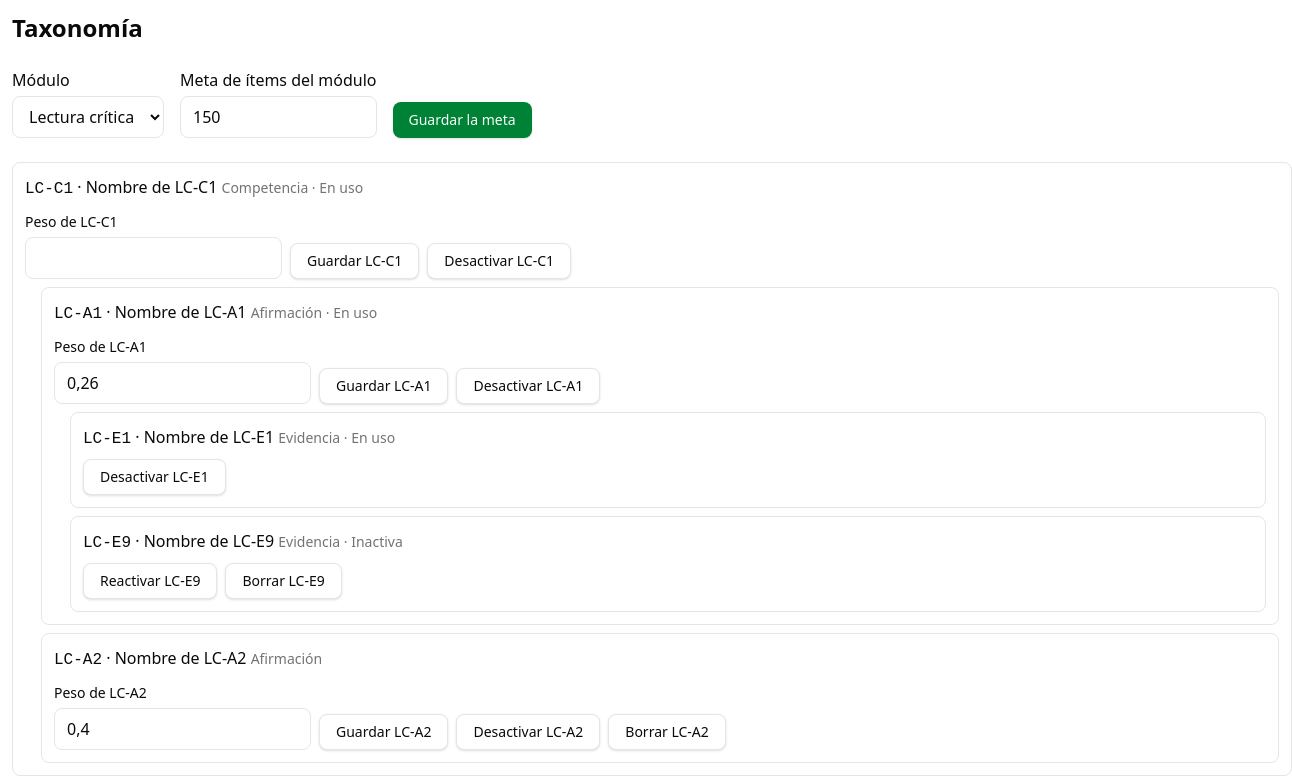
Test case: taxonomía › cambia la meta del módulo
Step 1. Replace the text in the number field labelled "Meta de ítems del módulo" with "200" → coordinates (278, 117), box [180,96,376,138]
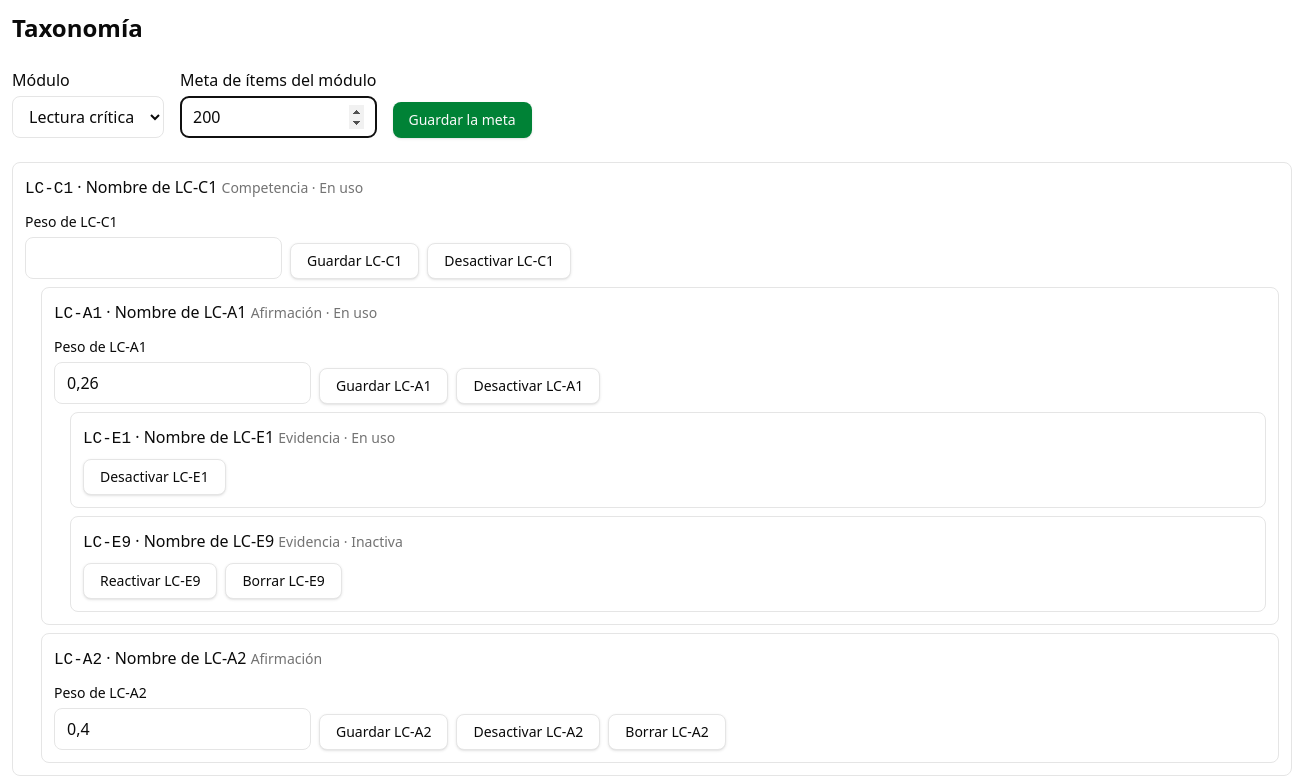
Step 2. Click the button "Guardar la meta" → coordinates (462, 120), box [392,102,532,138]
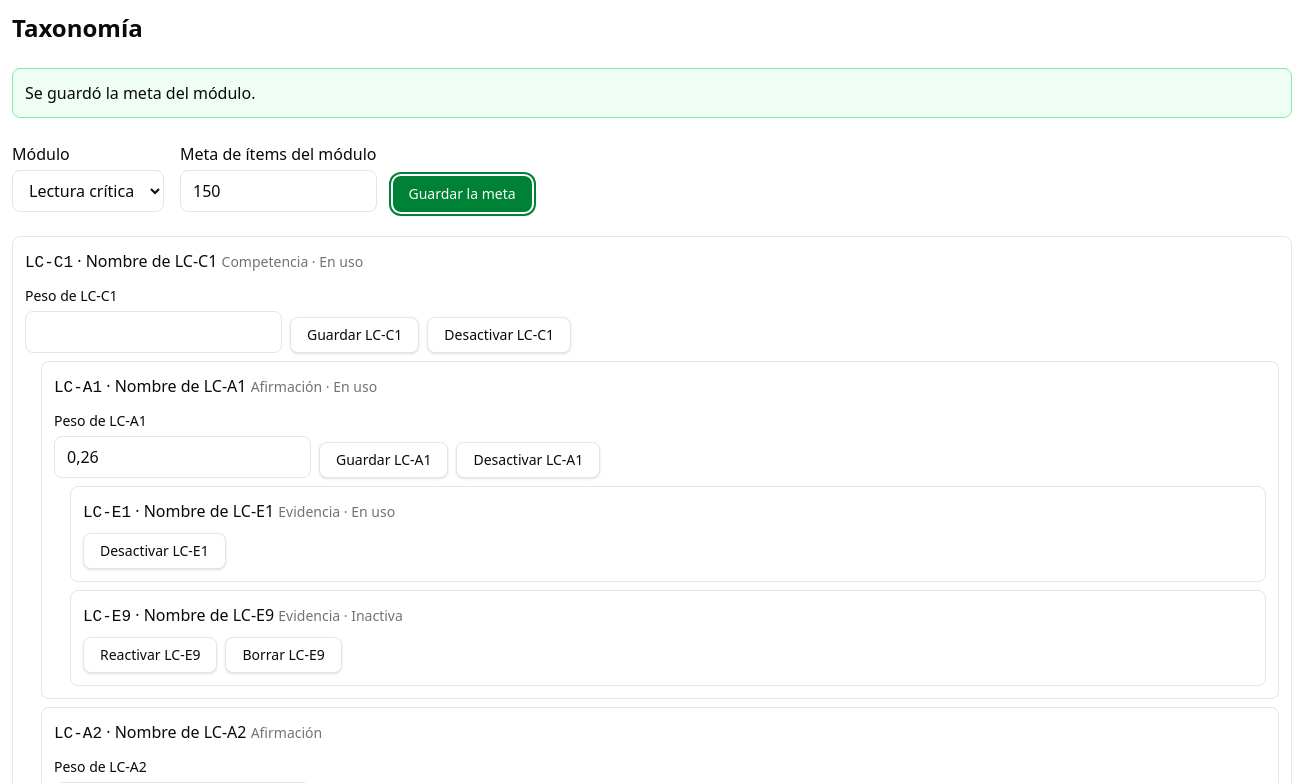
Result: the message "Se guardó la meta del módulo." is shown at [12,68,1291,118]
